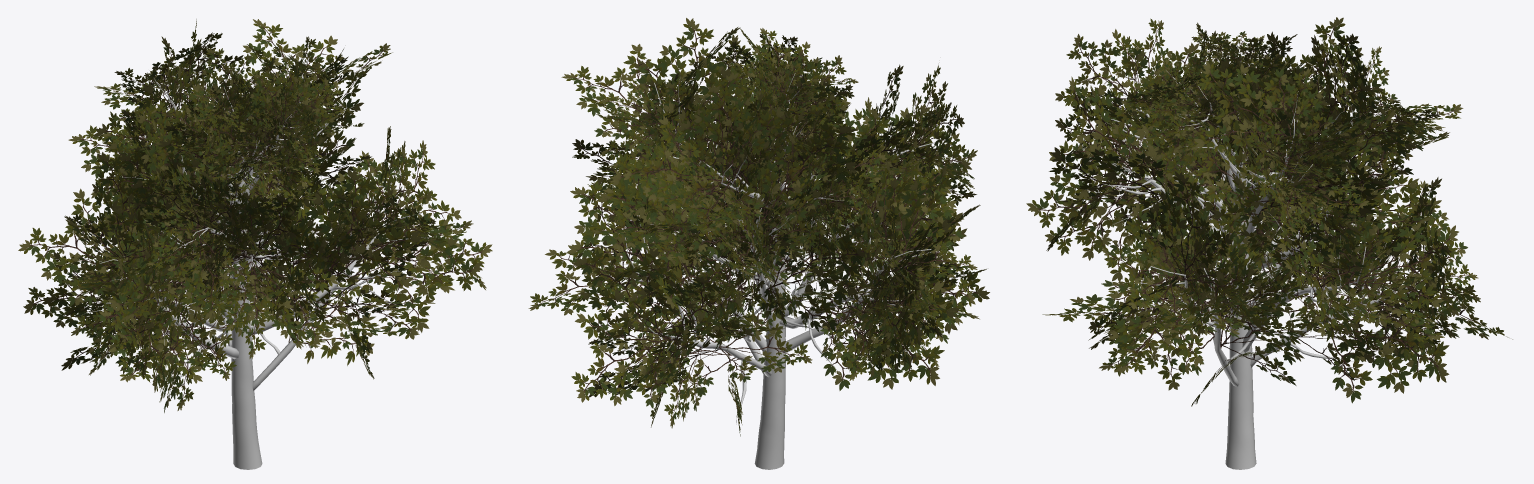
File: Tree_A.fbx
3 views of the same model, side by side, from view 1: azimuth 30°, elevation 25°; view 2: azimuth 150°, elevation 25°; view 3: azimuth 270°, elevation 25° (orthographic). The views are drawn at different scales.
Visible parts, largest first — view 1: Tree_A; view 2: Tree_A; view 3: Tree_A.
Part boxes in pixels (<box>): Tree_A: <box>18,19,492,469</box>; Tree_A: <box>528,18,989,469</box>; Tree_A: <box>1026,17,1512,469</box>.
Bounding box in the file's own units: 8.48 × 8.45 × 8.69.
